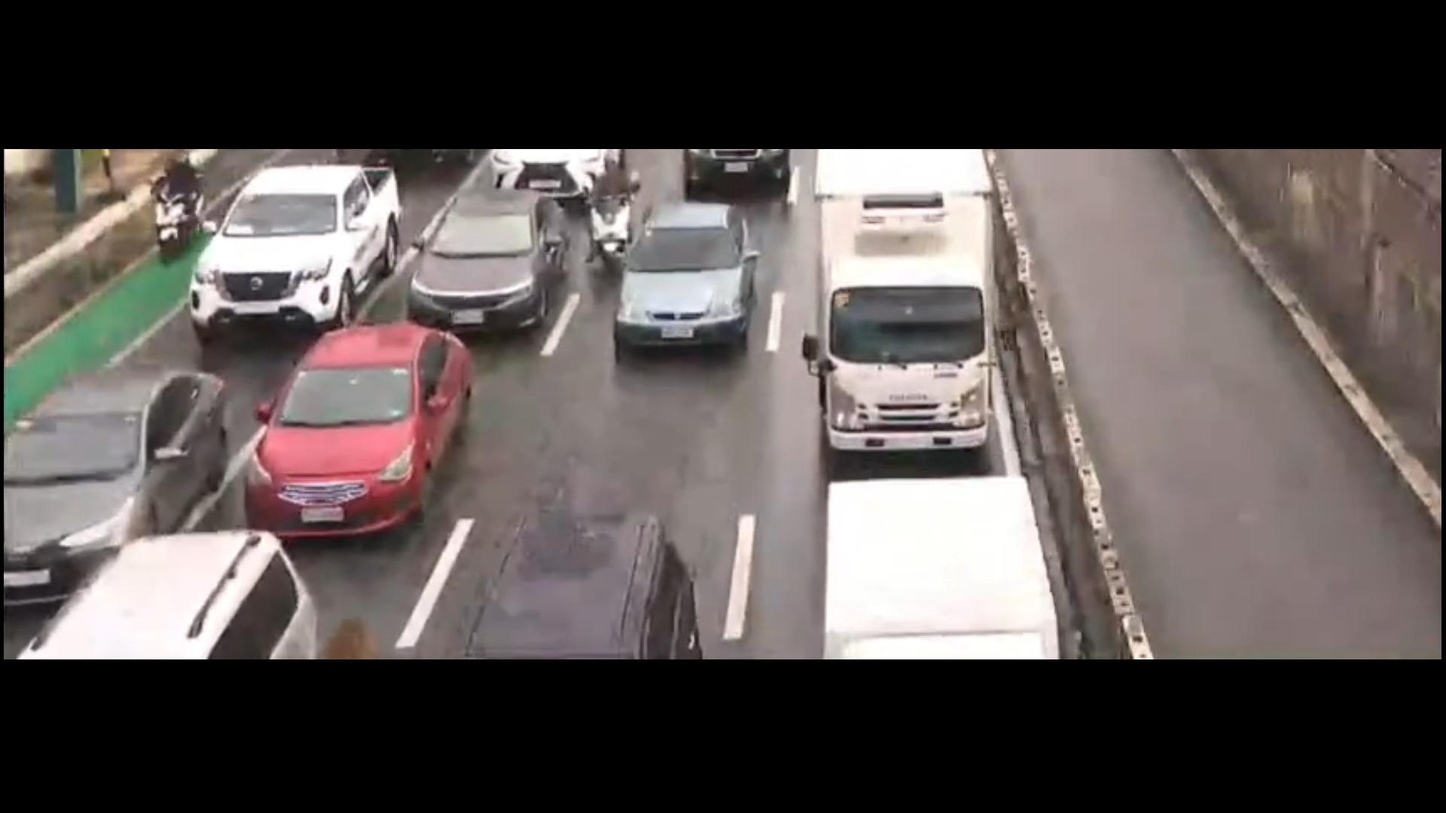Motorcycle: (126, 145, 238, 262), (573, 149, 652, 273)
Multicab: (787, 465, 1084, 661)
Pickup: (179, 149, 415, 334)
SUV: (435, 490, 763, 660), (9, 520, 317, 660)
Sedan: (213, 313, 499, 542), (0, 345, 238, 608), (393, 183, 571, 365), (614, 207, 776, 368)
Truck: (806, 152, 1007, 473)
